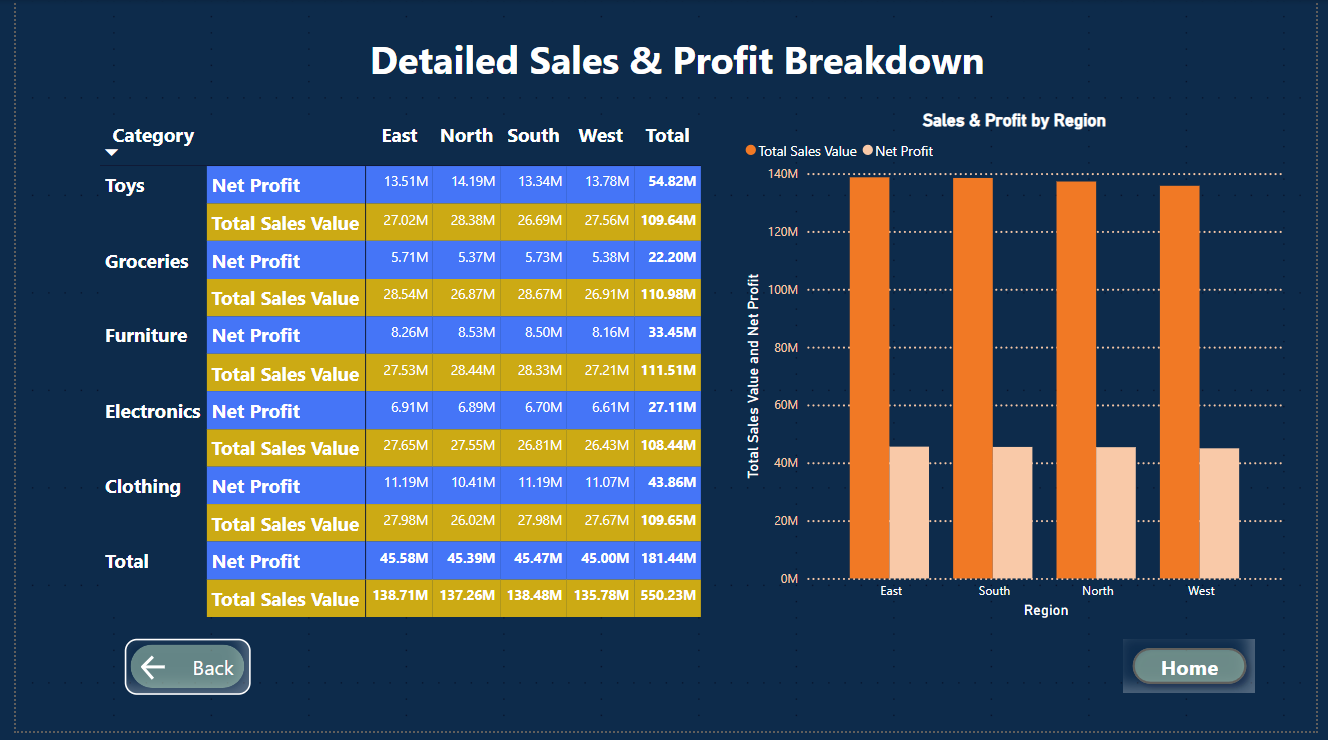

The dashboard page shown, as its layout file describes it:
{"tool":"powerbi","page":{"name":"Detailed table","canvas":[1280,720],"ordinal":4},"visuals":[{"type":"clusteredColumnChart","title":"Sales & Profit by Region","fields":{"Category":["Retail_updateddata.Region"],"Y":["Retail_updateddata.Total Sales Value","Retail_updateddata.Net Profit"]},"box":[712.7,108.2,541,505],"z":0},{"type":"pivotTable","title":"Detailed Sales & Profit Breakdown","fields":{"Rows":["Retail_updateddata.Category"],"Columns":["Retail_updateddata.Region"],"Values":["Retail_updateddata.Net Profit","Retail_updateddata.Total Sales Value"]},"box":[77.9,108.2,634.8,505],"z":1000},{"type":"actionButton","title":"Home","box":[1090.5,628.3,130,53.4],"z":2000},{"type":"actionButton","box":[106.9,628.3,124.2,54.9],"z":3000},{"type":"textbox","box":[343.4,28.9,704.1,66.4],"z":4000}]}

Visuals, with their boxes in screenshot pixels (x1, y1, x2, y2), scaled from the page's 1280x720 canvas onto the 1328x740 screenshot:
"Sales & Profit by Region" clusteredColumnChart: left=739, top=111, right=1301, bottom=630
"Detailed Sales & Profit Breakdown" pivotTable: left=81, top=111, right=739, bottom=630
"Home" actionButton: left=1131, top=646, right=1266, bottom=701
actionButton: left=111, top=646, right=240, bottom=702
textbox: left=356, top=30, right=1087, bottom=98
